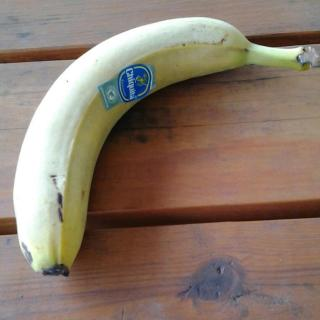Banana: (13, 16, 320, 280)
